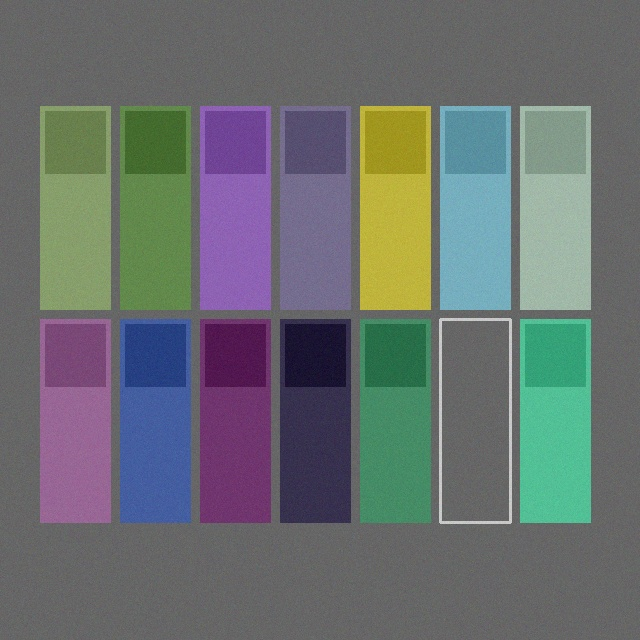space-empty: (440, 319, 510, 522)
space-occupied: (40, 106, 110, 309), (120, 106, 190, 309), (200, 106, 270, 309), (280, 106, 350, 309), (360, 106, 430, 309), (440, 106, 510, 309), (520, 106, 590, 309), (40, 319, 110, 522), (120, 319, 190, 522), (200, 319, 270, 522), (280, 319, 350, 522), (360, 319, 430, 522), (520, 319, 590, 522)
